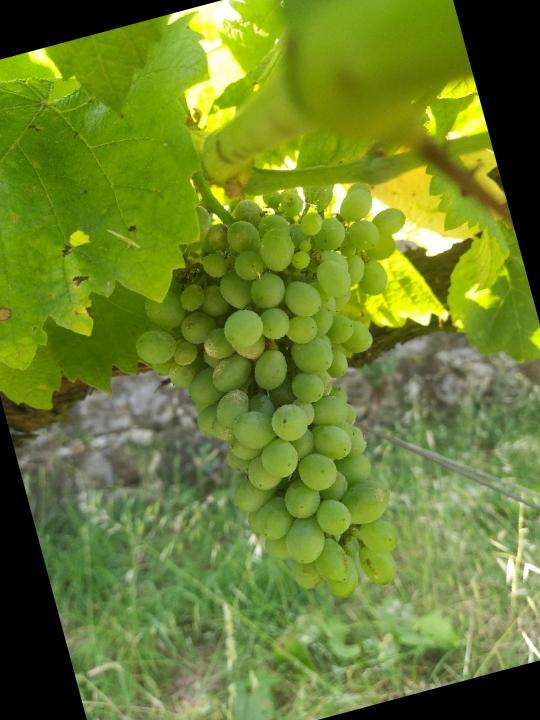grape: (100, 153, 504, 638)
